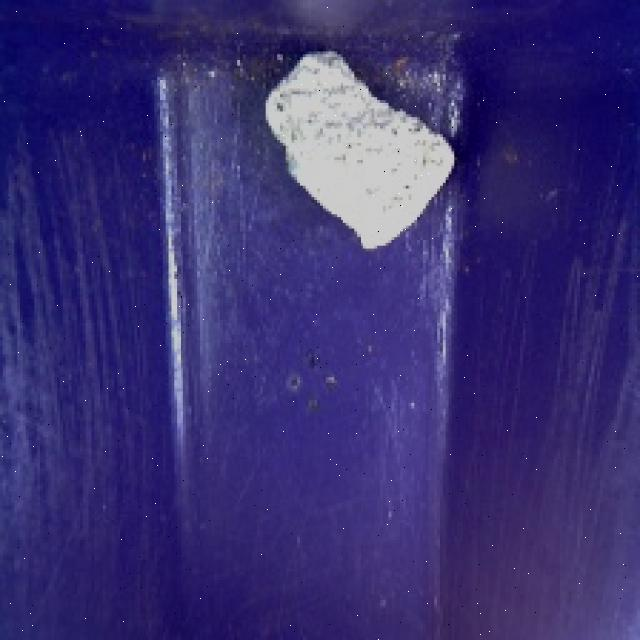brick: (258, 40, 464, 259)
